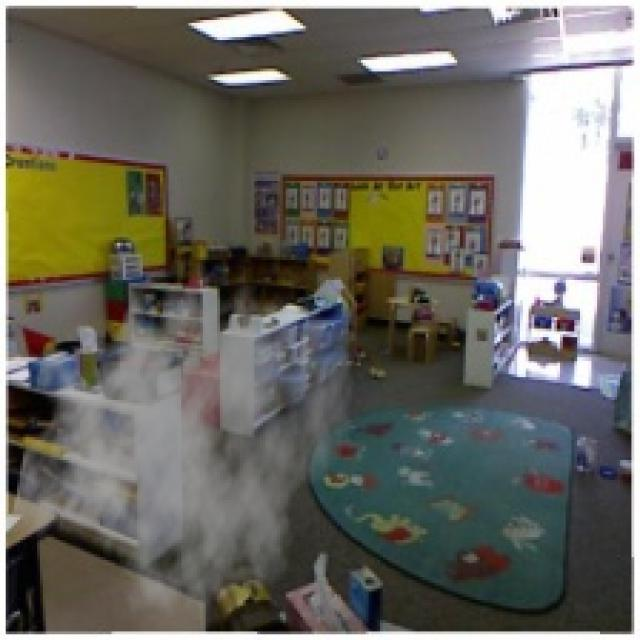smoke: (9, 243, 357, 634)
